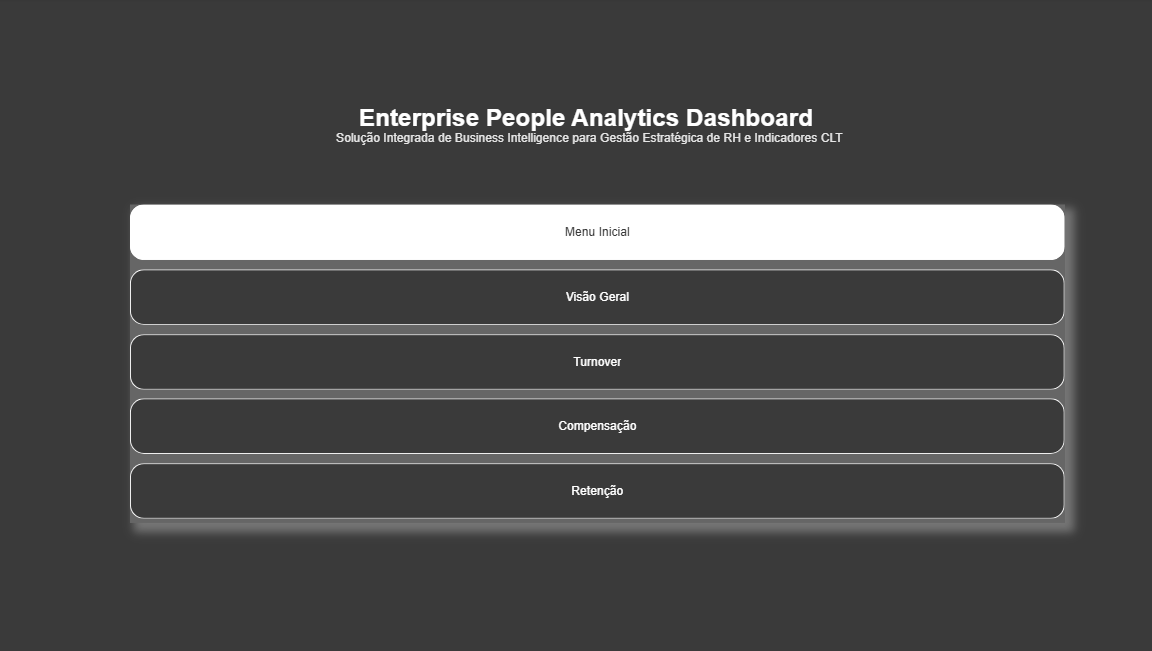

What the dashboard file says about the page in this screenshot:
{"tool":"powerbi","page":{"name":"Menu Inicial ","canvas":[1280,720],"ordinal":0},"visuals":[{"type":"pageNavigator","box":[148.2,227.8,1026.4,349.9],"z":0},{"type":"textbox","box":[130.4,112.5,1044.3,72.7],"z":1}]}

Visuals, with their boxes in screenshot pixels (x1, y1, x2, y2), scaled from the page's 1280x720 canvas onto the 1152x651 screenshot:
pageNavigator: 133:206:1057:522
textbox: 117:102:1057:167
